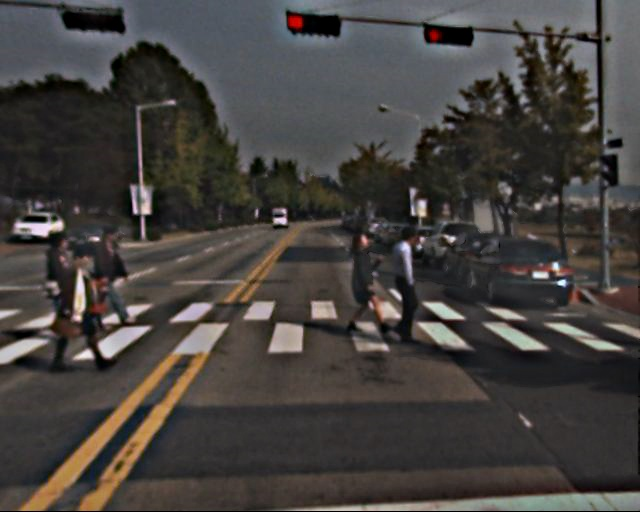person: (59, 244, 110, 369), (382, 225, 433, 349), (343, 229, 388, 339), (41, 233, 84, 338), (93, 227, 134, 327)
